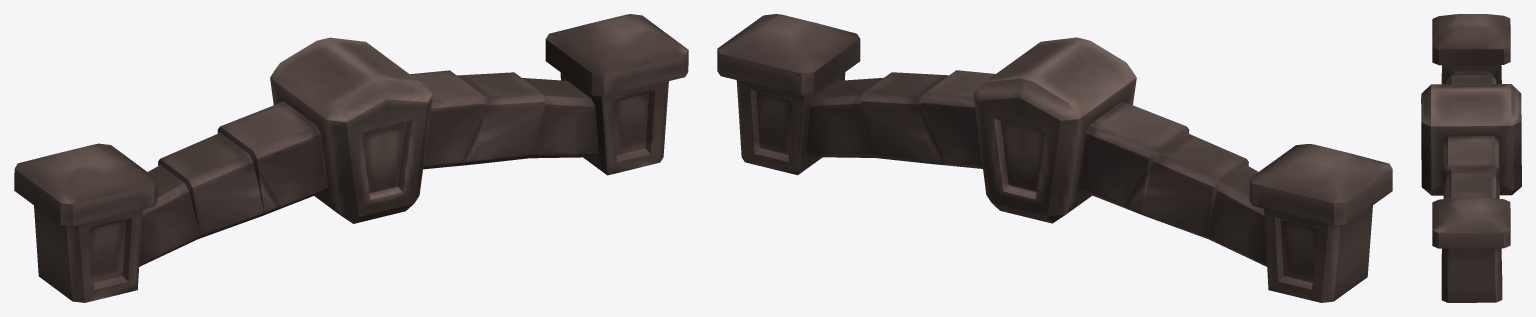
The model's file is rock_00.fbx.
3 renders of one model, left to right at view 1: azimuth 30°, elevation 25°; view 2: azimuth 150°, elevation 25°; view 3: azimuth 270°, elevation 25°, orthographic. The views are drawn at different scales.
Parts seen in each view (by area): view 1: rock_00; view 2: rock_00; view 3: rock_00.
Part boxes in pixels (left/top/right/bottom): rock_00: left=14, top=14, right=688, bottom=302; rock_00: left=717, top=14, right=1392, bottom=302; rock_00: left=1421, top=14, right=1521, bottom=302.
Size of the model in its own units: 3.38 by 0.8105 by 0.6633.
